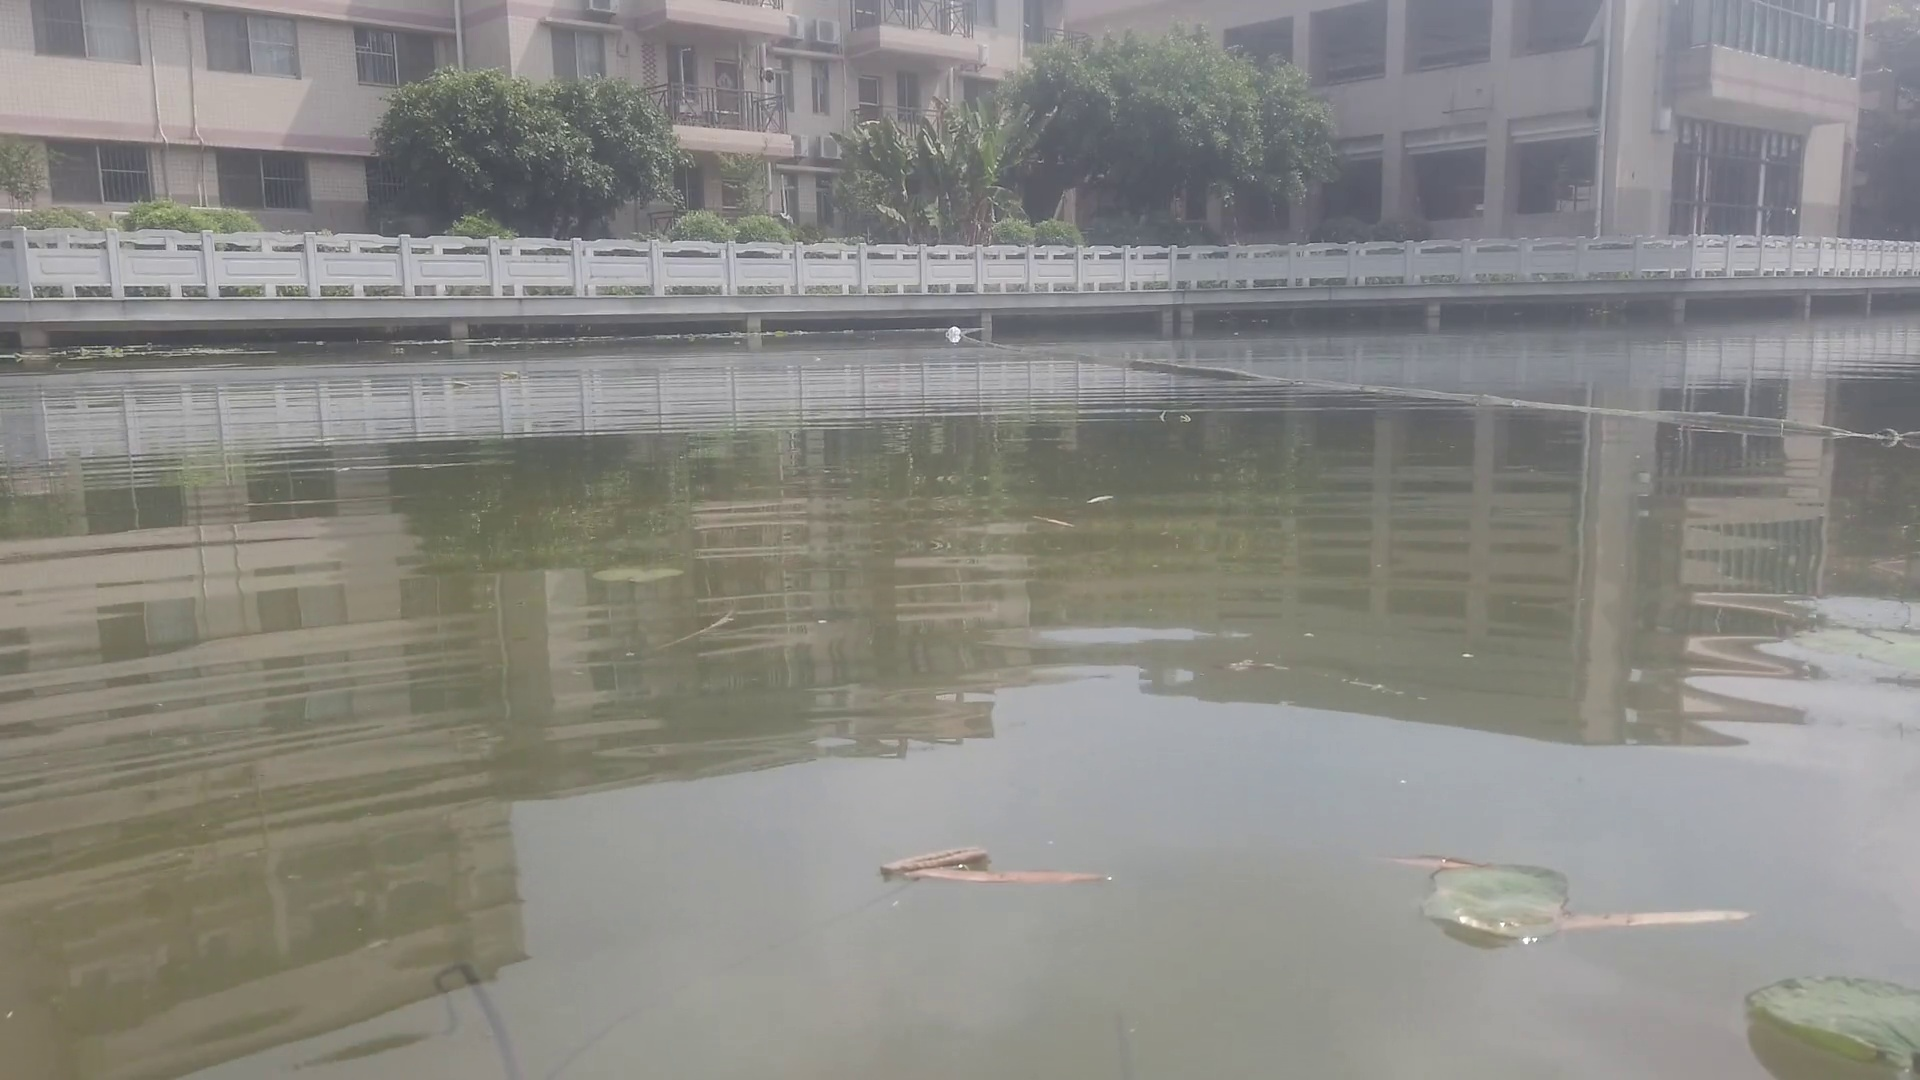plastic: (945, 326, 965, 340)
